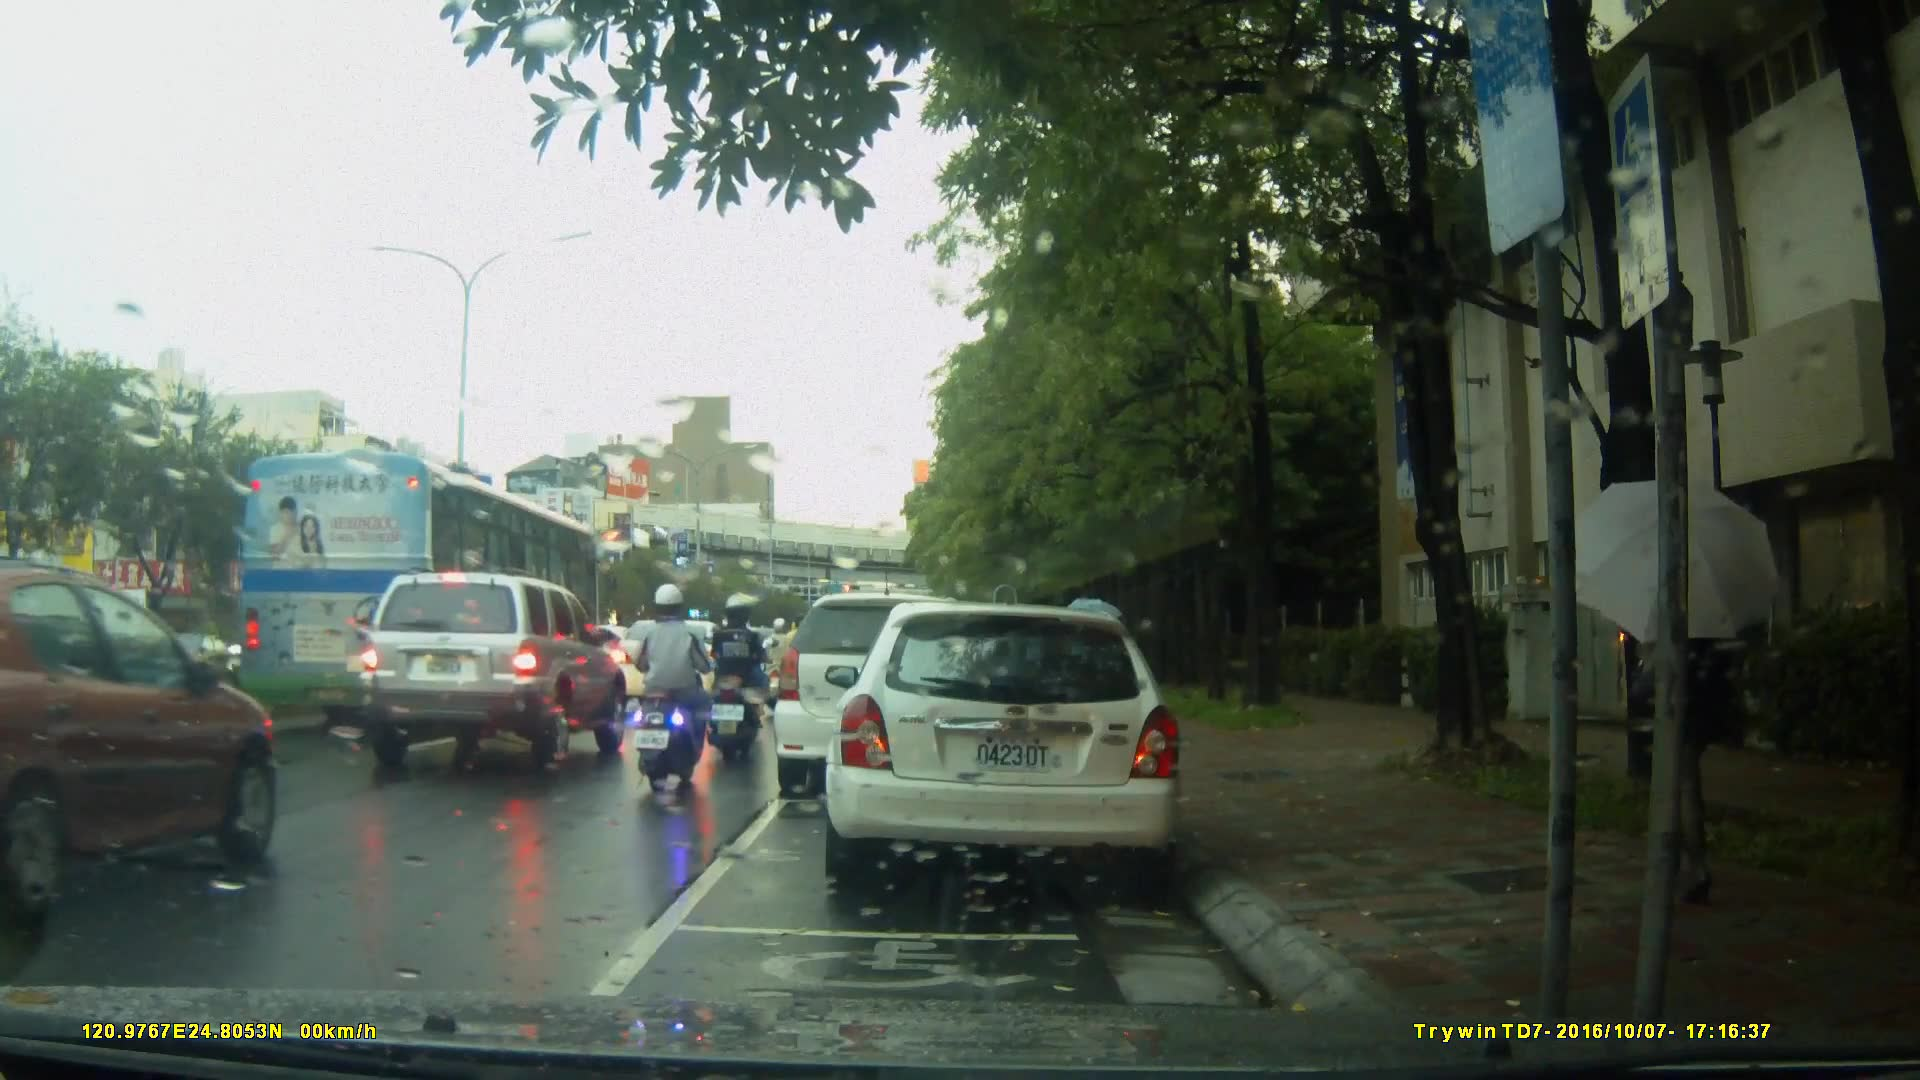pedestrian: (1650, 520, 1785, 904)
rider: (631, 579, 713, 798), (702, 595, 769, 769), (712, 601, 767, 731), (765, 612, 805, 717)
vehicle: (835, 594, 1194, 898), (233, 450, 601, 739), (1, 566, 283, 926), (354, 567, 635, 766), (776, 590, 1026, 784)
